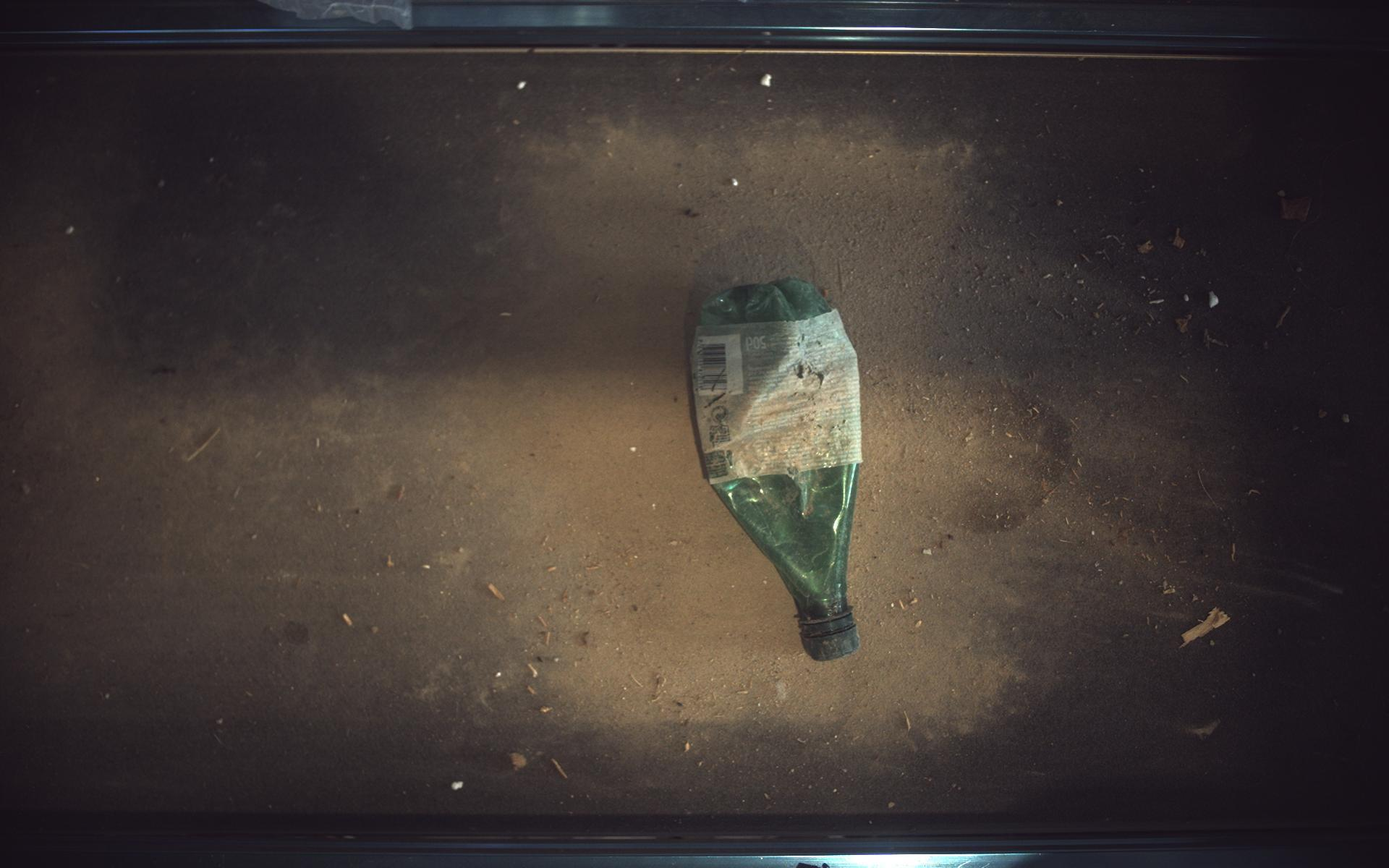general_w: (692, 277, 863, 662)
